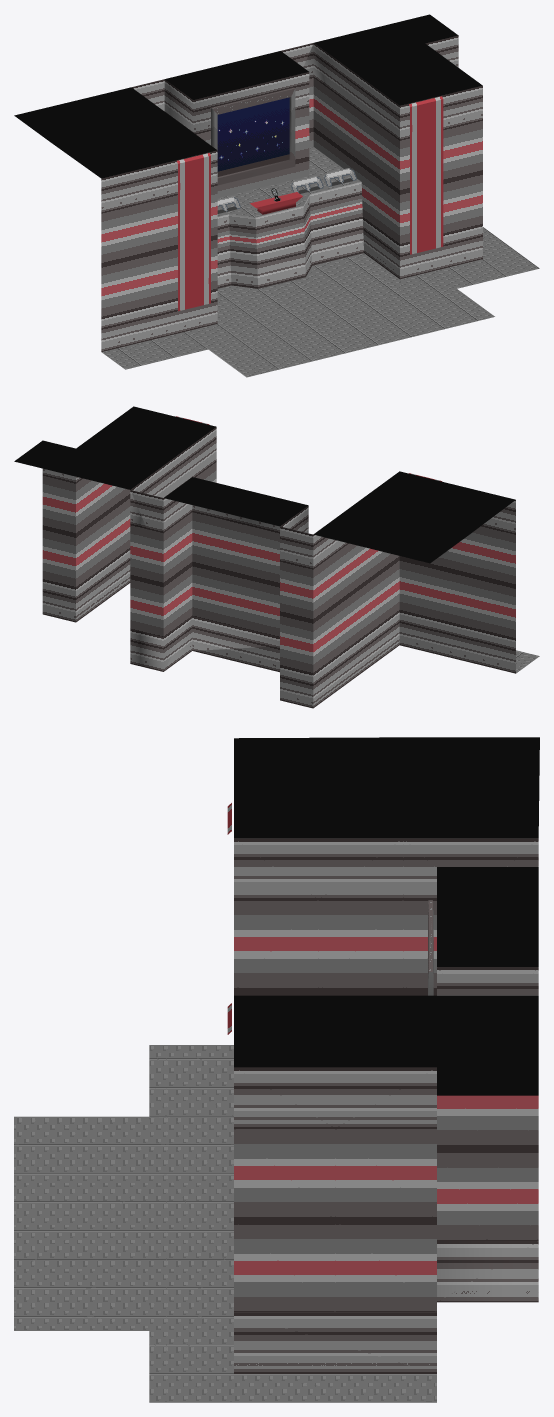
Rendered from GALHQ15-1.obj.
The picture shows the model from 3 angles, top to bottom: view 1: azimuth 30°, elevation 25°; view 2: azimuth 150°, elevation 25°; view 3: azimuth 270°, elevation 25°; orthographic projection. The views are drawn at different scales.
Visible parts, largest first — view 1: m_dun2609_00_00c; view 2: m_dun2609_00_00c; view 3: m_dun2609_00_00c.
Part boxes in pixels (left/top/right/bottom): m_dun2609_00_00c: left=14, top=14, right=539, bottom=377; m_dun2609_00_00c: left=14, top=406, right=539, bottom=708; m_dun2609_00_00c: left=14, top=737, right=539, bottom=1402.
Size of the model in its own units: 401 by 160 by 249.
